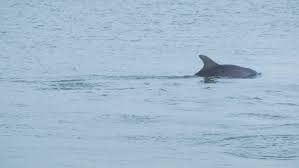fin: (183, 50, 269, 88)
